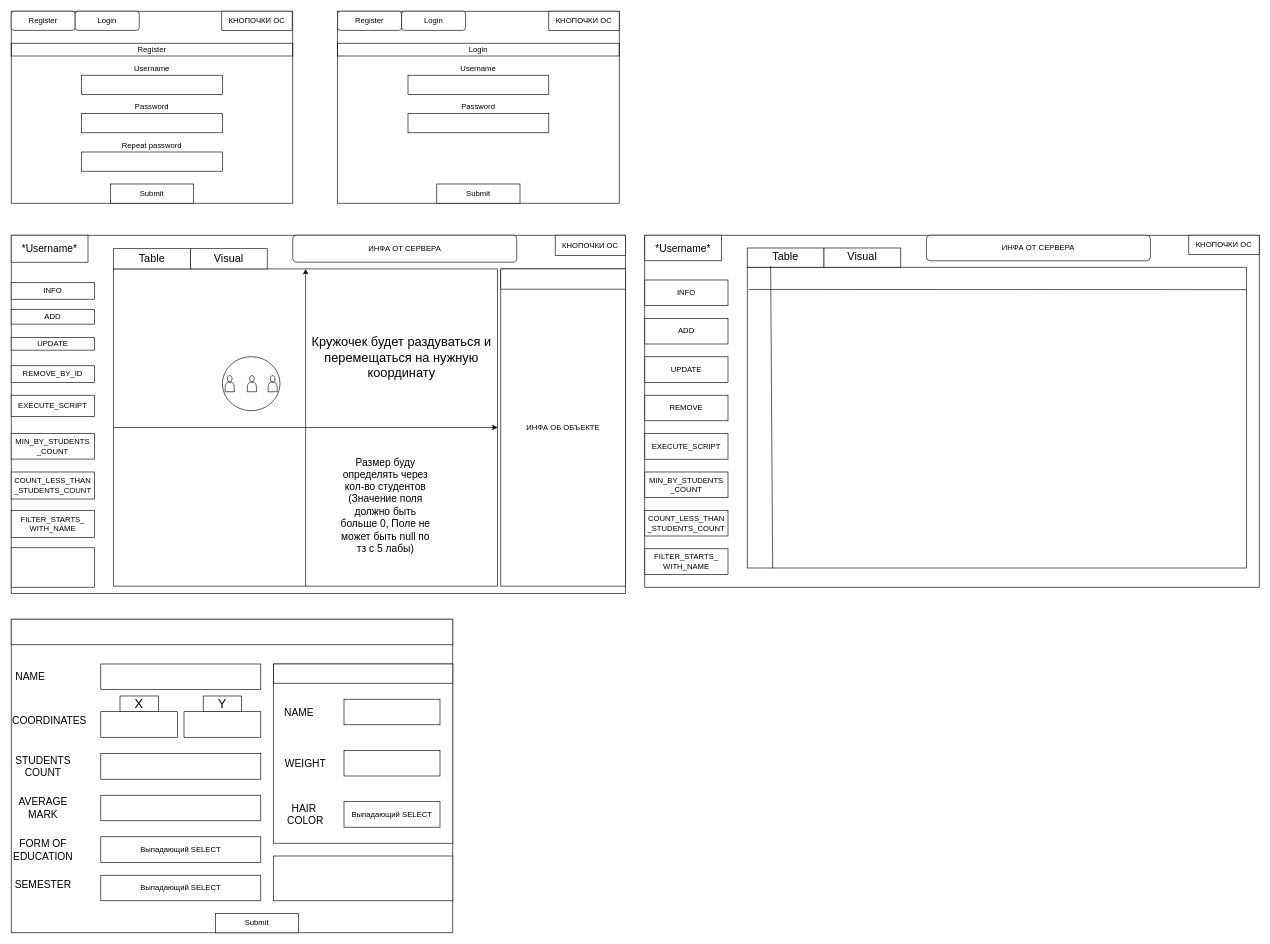
Some shapes in this 1270 by 944 pixel diagram are drawn without their labels. The shapes that lost their labels are listed below. From the top down, each one's centre as x and y in pixels, then its label:
At (563,278): "Object info".
At (52,567): "STRING ARGUMENT".
At (232,632): "Adding".
At (363,673): "GROUP ADMIN".
At (363,878): "Attention message".
